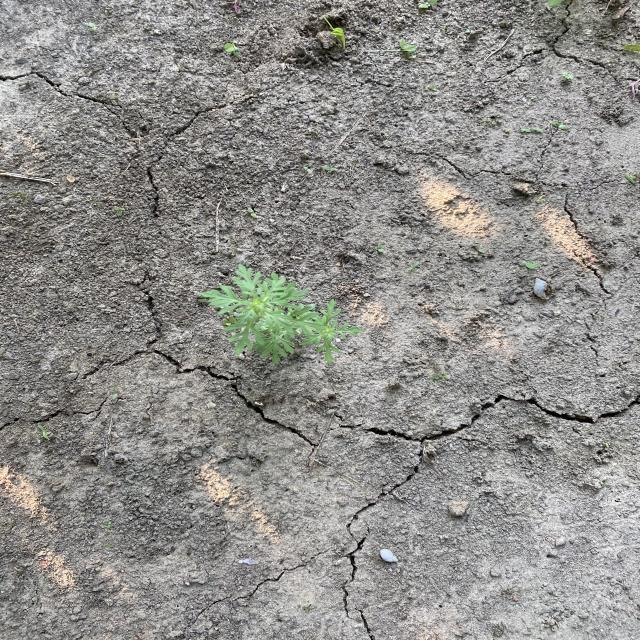Ragweed: (194, 262, 366, 364)
